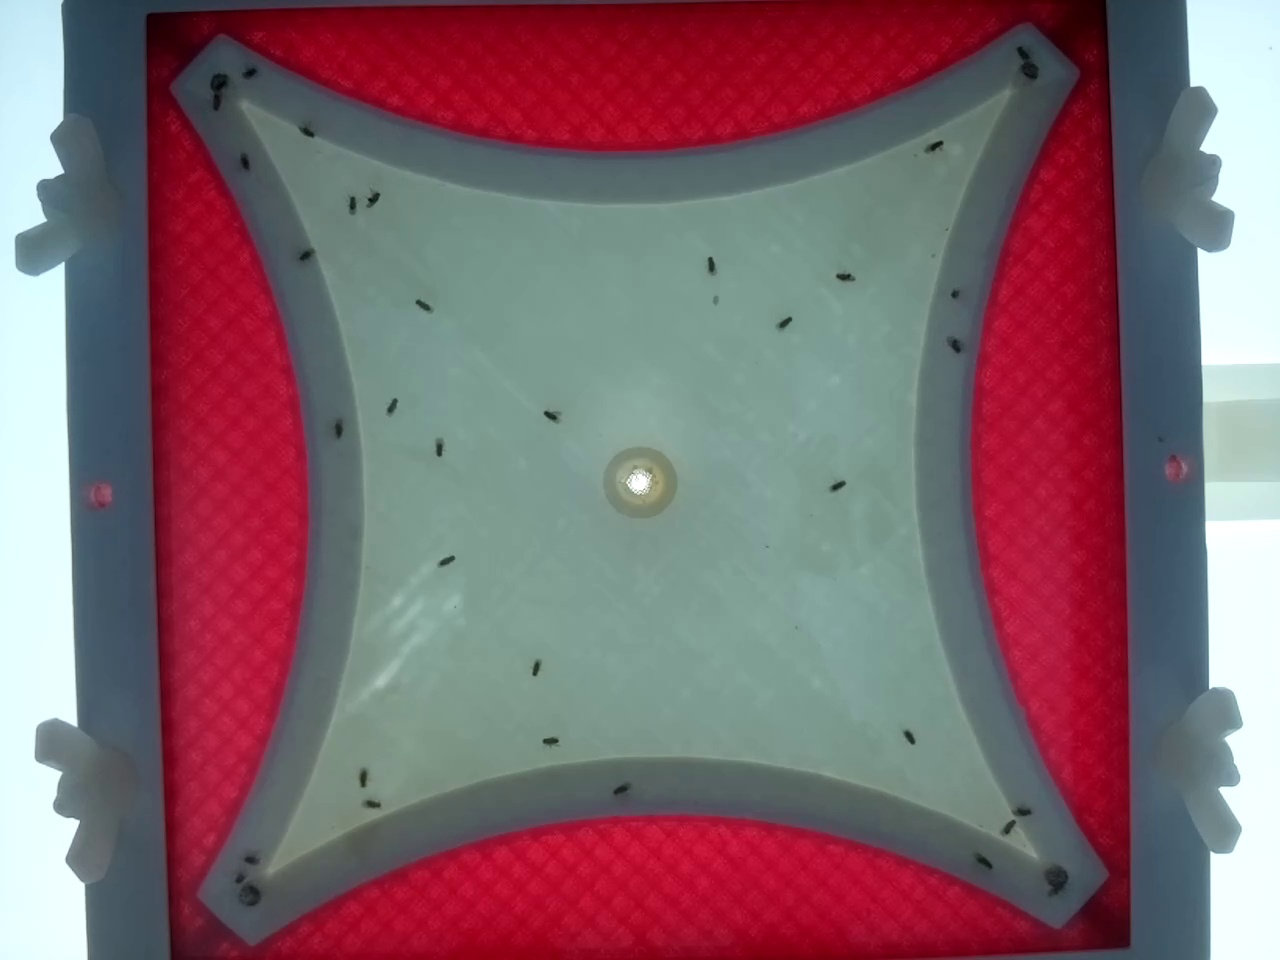fly: (294, 119, 319, 144), (339, 191, 364, 216), (289, 244, 314, 269), (360, 187, 385, 212), (234, 154, 259, 179), (204, 87, 229, 112), (921, 134, 946, 159), (771, 310, 796, 335), (241, 61, 266, 86), (908, 63, 933, 88), (379, 394, 404, 419), (324, 423, 349, 448), (896, 724, 921, 749), (538, 728, 563, 753), (358, 790, 383, 815), (995, 815, 1020, 840), (1011, 798, 1036, 823), (226, 866, 251, 891), (237, 846, 262, 871), (972, 849, 997, 874), (698, 252, 723, 277), (1009, 38, 1034, 63), (833, 264, 857, 289), (410, 293, 435, 318), (941, 331, 966, 356), (426, 435, 451, 460), (433, 548, 458, 573), (824, 473, 849, 498), (523, 655, 548, 680), (537, 403, 562, 428), (351, 766, 376, 791), (608, 776, 633, 801), (1043, 876, 1068, 901), (940, 281, 965, 306)
